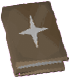prayerbook: (1, 1, 69, 79)
